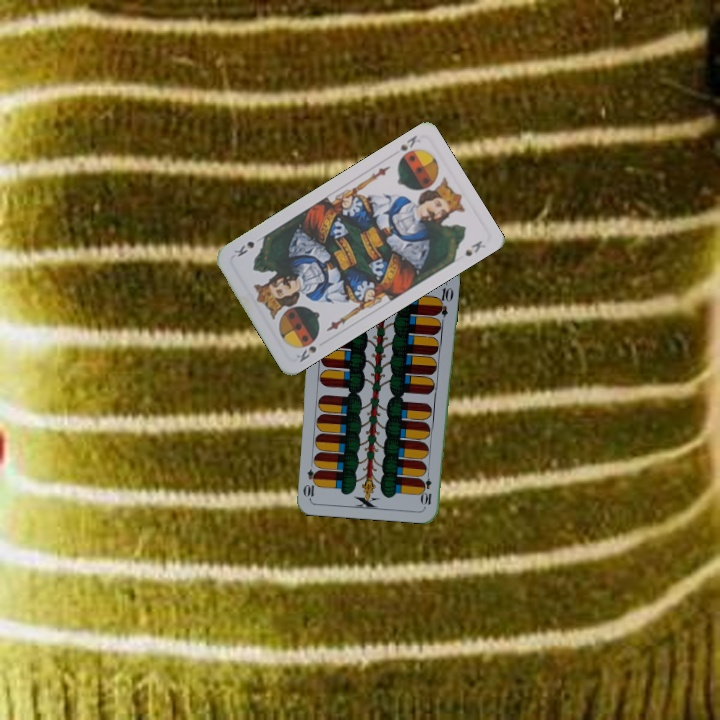E10: (419, 467, 434, 507)
SK: (394, 131, 423, 163), (292, 334, 320, 365)
